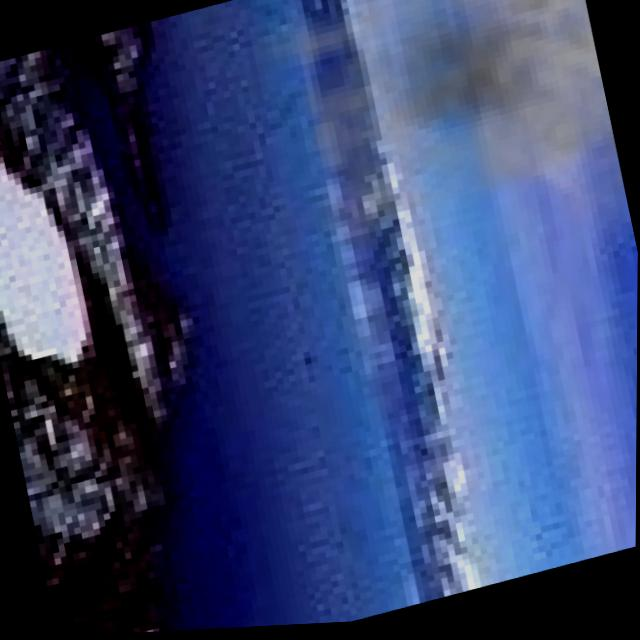smoke: (233, 0, 640, 351)
